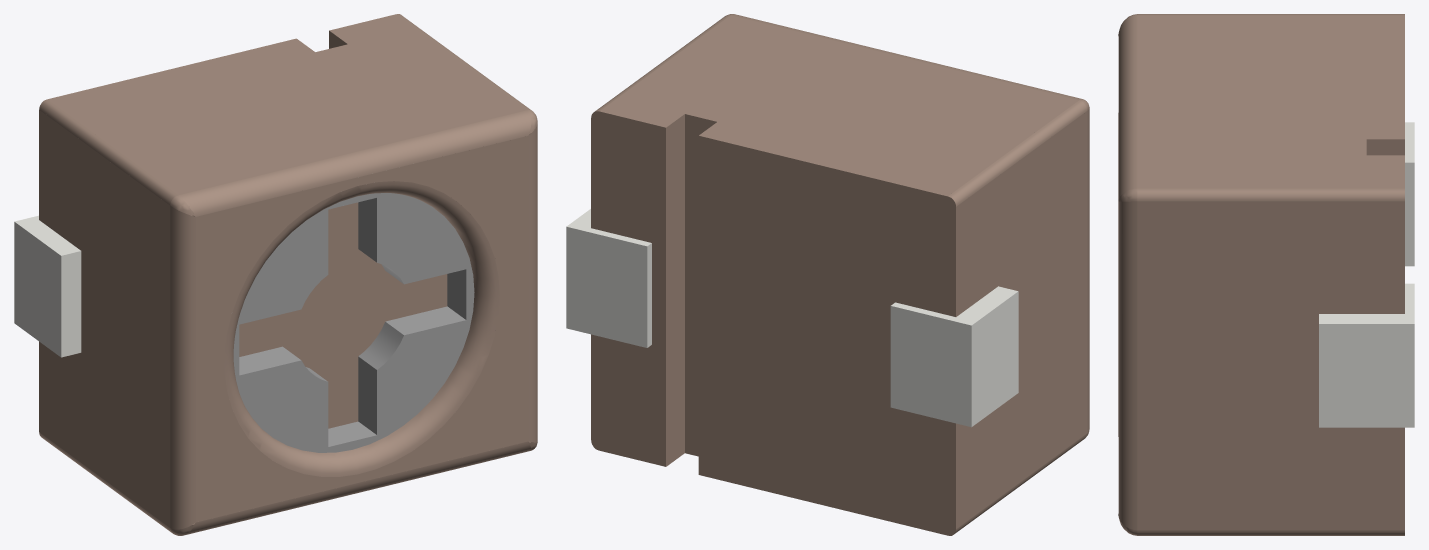
File: C_Trimmer_Murata_TZB4-A.glb
3 views of the same model, side by side, from view 1: azimuth 30°, elevation 25°; view 2: azimuth 150°, elevation 25°; view 3: azimuth 270°, elevation 25° (orthographic). The views are drawn at different scales.
Parts seen in each view (by area): view 1: Shape_IndexedFaceSet.006, Shape_IndexedFaceSet.023, Shape_IndexedFaceSet.025, Shape_IndexedFaceSet.035, Shape_IndexedFaceSet.052, Shape_IndexedFaceSet.030, Shape_IndexedFaceSet.019, Shape_IndexedFaceSet.031, Shape_IndexedFaceSet.034, Shape_IndexedFaceSet.013, Shape_IndexedFaceSet.012, Shape_IndexedFaceSet.018 (+9 smaller); view 2: Shape_IndexedFaceSet.015, Shape_IndexedFaceSet.006, Shape_IndexedFaceSet.025, Shape_IndexedFaceSet.001, Shape_IndexedFaceSet.033, Shape_IndexedFaceSet.021, Shape_IndexedFaceSet.005, Shape_IndexedFaceSet.017, Shape_IndexedFaceSet.034, Shape_IndexedFaceSet.018, Shape_IndexedFaceSet.028, Shape_IndexedFaceSet.019 (+2 smaller); view 3: Shape_IndexedFaceSet.002, Shape_IndexedFaceSet.006, Shape_IndexedFaceSet.022, Shape_IndexedFaceSet.012, Shape_IndexedFaceSet.007, Shape_IndexedFaceSet.019, Shape_IndexedFaceSet, Shape_IndexedFaceSet.008, Shape_IndexedFaceSet.027, Shape_IndexedFaceSet.016, Shape_IndexedFaceSet.018, Shape_IndexedFaceSet.028.
Boxes of the visible parts, x1,y1,x2,y2 form: Shape_IndexedFaceSet.006: (48, 14, 526, 195); Shape_IndexedFaceSet.023: (196, 136, 528, 522); Shape_IndexedFaceSet.025: (39, 110, 170, 527); Shape_IndexedFaceSet.035: (233, 193, 474, 452); Shape_IndexedFaceSet.052: (239, 202, 447, 428); Shape_IndexedFaceSet.030: (224, 181, 499, 476); Shape_IndexedFaceSet.019: (179, 110, 531, 216); Shape_IndexedFaceSet.031: (170, 206, 195, 529); Shape_IndexedFaceSet.034: (14, 222, 61, 357); Shape_IndexedFaceSet.013: (186, 441, 531, 534); Shape_IndexedFaceSet.012: (528, 124, 537, 442); Shape_IndexedFaceSet.018: (39, 99, 177, 205); Shape_IndexedFaceSet.015: (698, 136, 955, 535); Shape_IndexedFaceSet.006: (599, 15, 1078, 196); Shape_IndexedFaceSet.025: (956, 111, 1087, 528); Shape_IndexedFaceSet.001: (591, 111, 665, 466); Shape_IndexedFaceSet.033: (890, 306, 971, 427); Shape_IndexedFaceSet.021: (566, 226, 647, 347); Shape_IndexedFaceSet.005: (666, 114, 684, 466); Shape_IndexedFaceSet.017: (685, 114, 716, 456); Shape_IndexedFaceSet.034: (971, 291, 1018, 426); Shape_IndexedFaceSet.018: (948, 100, 1087, 206); Shape_IndexedFaceSet.028: (891, 286, 1017, 325); Shape_IndexedFaceSet.019: (731, 14, 1081, 100); Shape_IndexedFaceSet.002: (1137, 201, 1404, 530); Shape_IndexedFaceSet.006: (1137, 15, 1404, 188); Shape_IndexedFaceSet.022: (1319, 324, 1414, 427); Shape_IndexedFaceSet.012: (1118, 201, 1137, 530); Shape_IndexedFaceSet.007: (1137, 188, 1404, 201); Shape_IndexedFaceSet.019: (1118, 15, 1137, 198); Shape_IndexedFaceSet: (1137, 530, 1404, 535); Shape_IndexedFaceSet.008: (1319, 283, 1414, 323); Shape_IndexedFaceSet.027: (1405, 162, 1414, 266); Shape_IndexedFaceSet.016: (1366, 139, 1404, 155); Shape_IndexedFaceSet.018: (1137, 14, 1404, 15); Shape_IndexedFaceSet.028: (1405, 122, 1414, 162).
Size of the model in its own units: 1.97 by 1.57 by 1.22.
